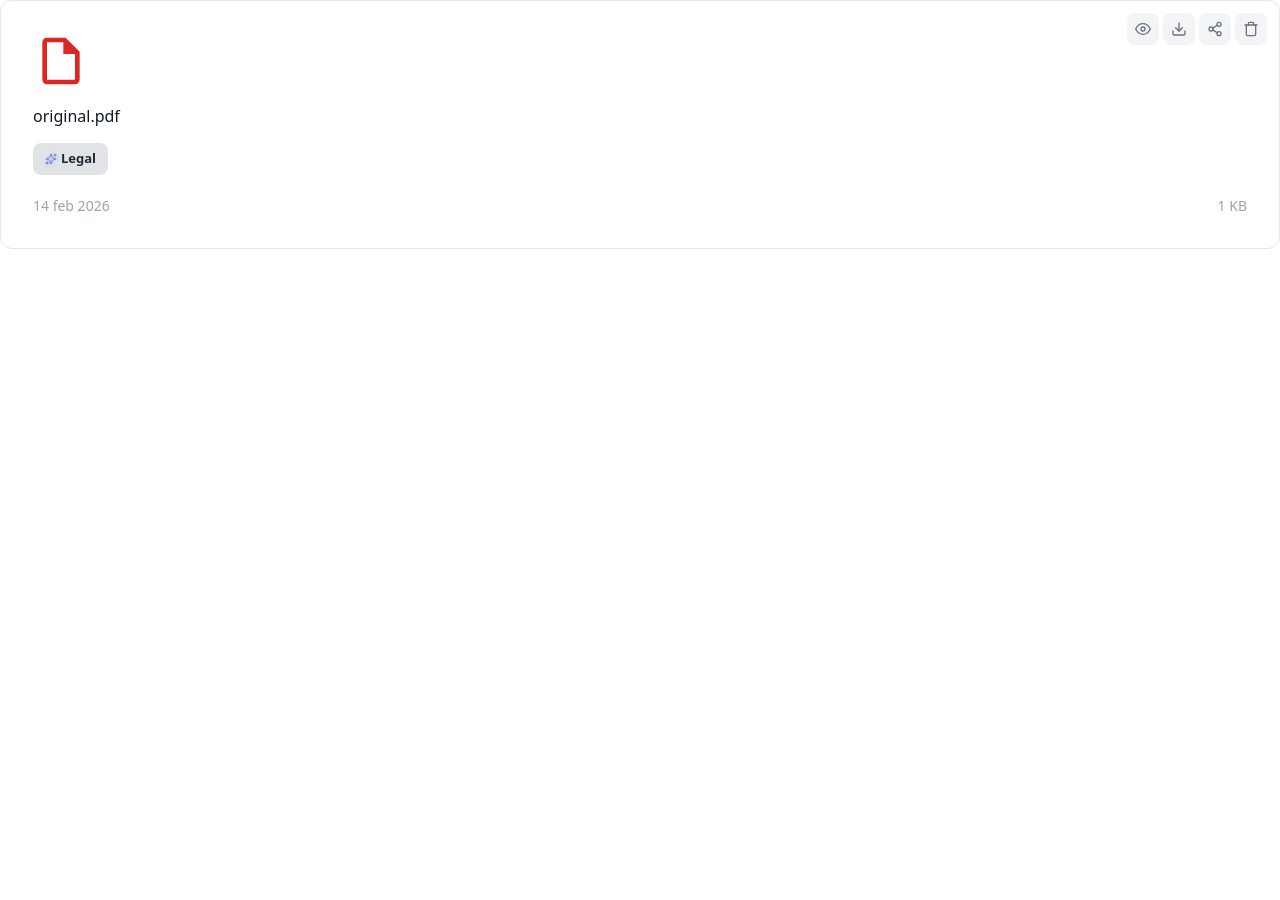
Test: DocumentCard › filters out owner, already-shared, and invalid member IDs in share list
Click the button titled "Compartir".
click(1215, 29)  # box [1199,13,1231,45]
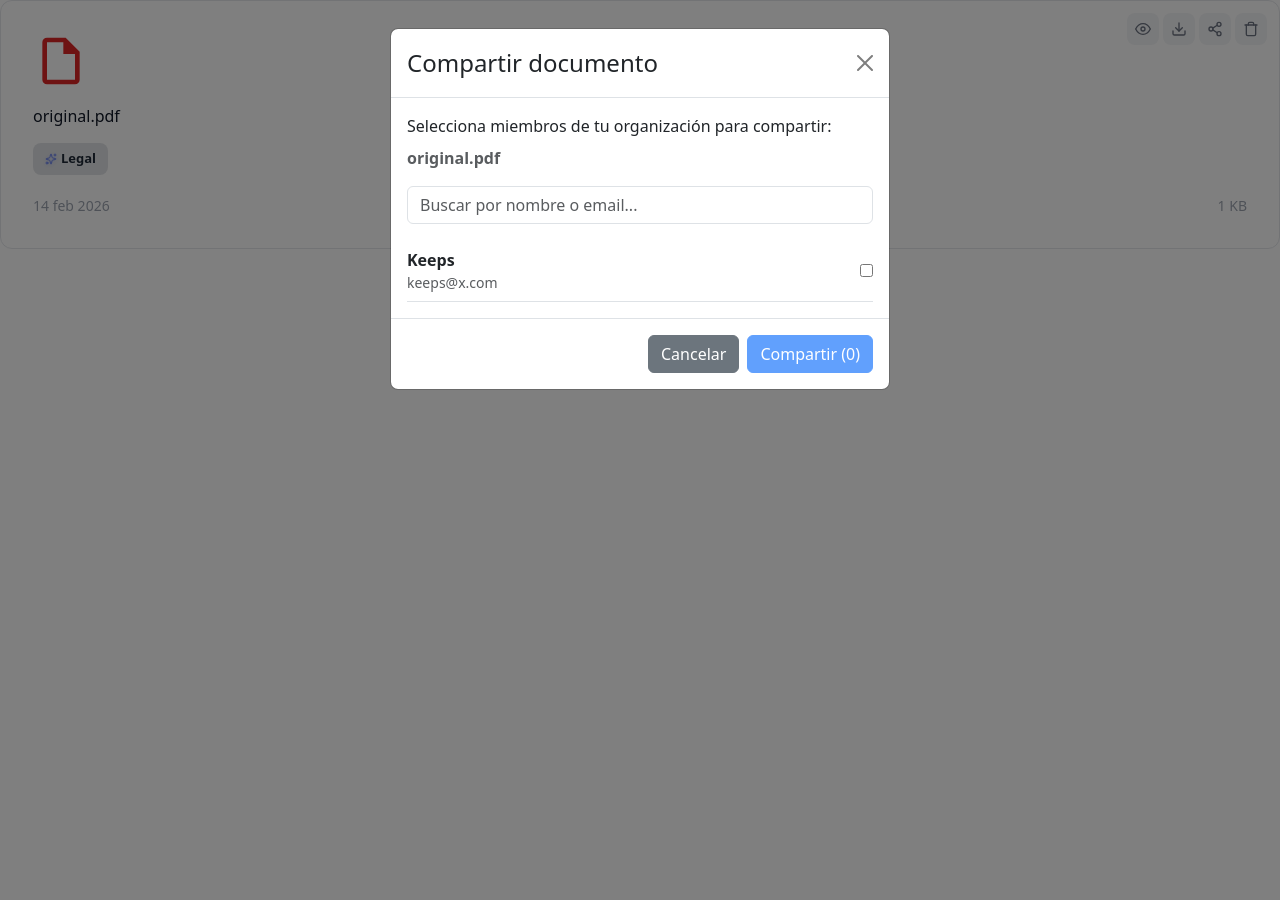
Check: the text "Keeps" is shown, box [407,249,455,271]
